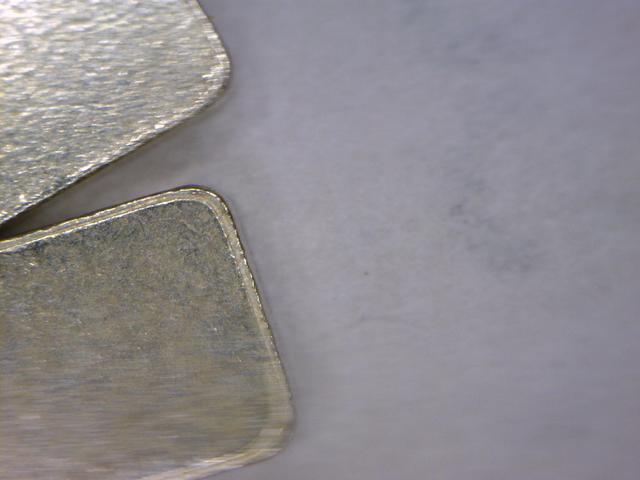nok: (1, 179, 327, 469)
